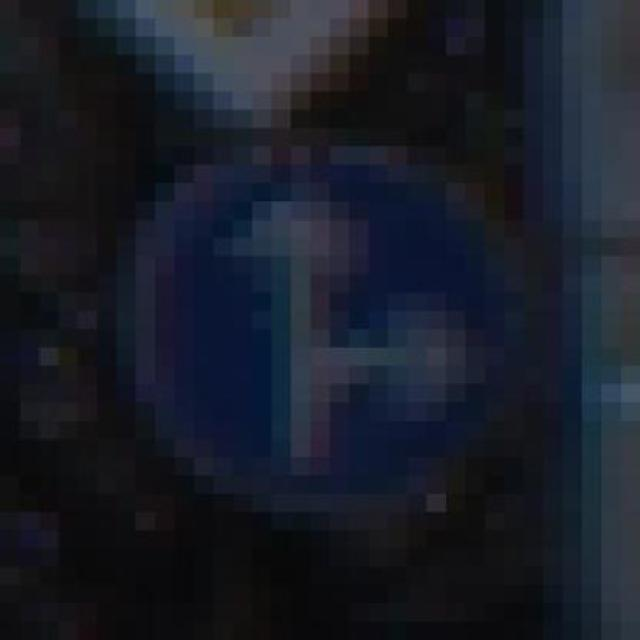Go Straight or Turn Right: (97, 128, 563, 549)
